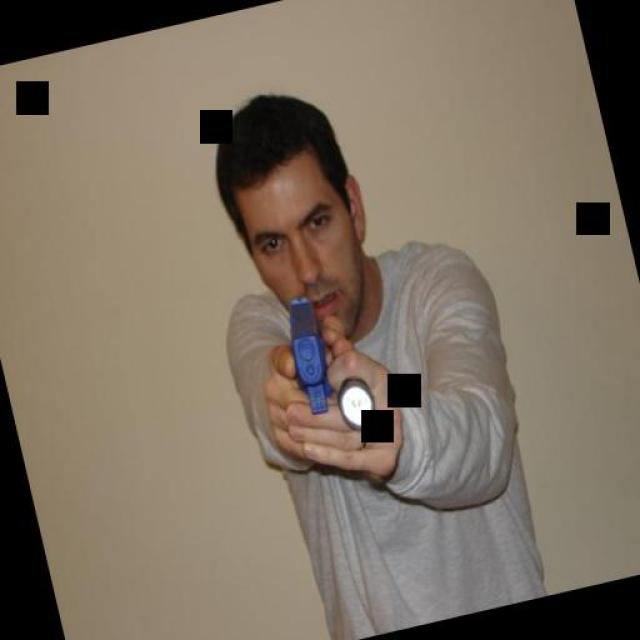gun: (274, 288, 340, 418)
